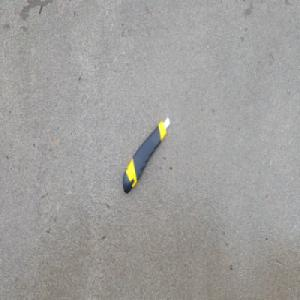Cutter: (121, 114, 171, 197)
